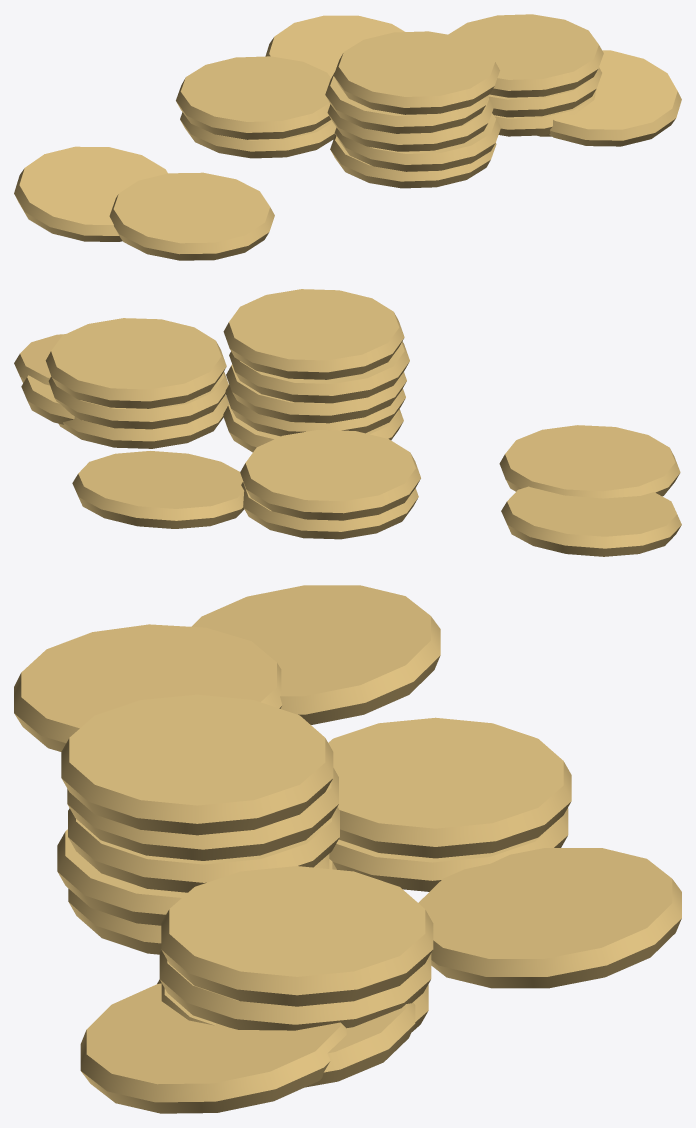
File: gold_pile.glb
The picture shows the model from 3 angles, top to bottom: view 1: azimuth 30°, elevation 25°; view 2: azimuth 150°, elevation 25°; view 3: azimuth 270°, elevation 25°; orthographic projection. The views are drawn at different scales.
Visible parts, largest first — view 1: gold_pile; view 2: gold_pile; view 3: gold_pile.
Boxes of the visible parts, x1,y1,x2,y2 form: gold_pile: [14, 14, 681, 260]; gold_pile: [14, 289, 681, 556]; gold_pile: [14, 585, 681, 1113].
Size of the model in its own units: 0.1456 by 0.0227 by 0.0814.
